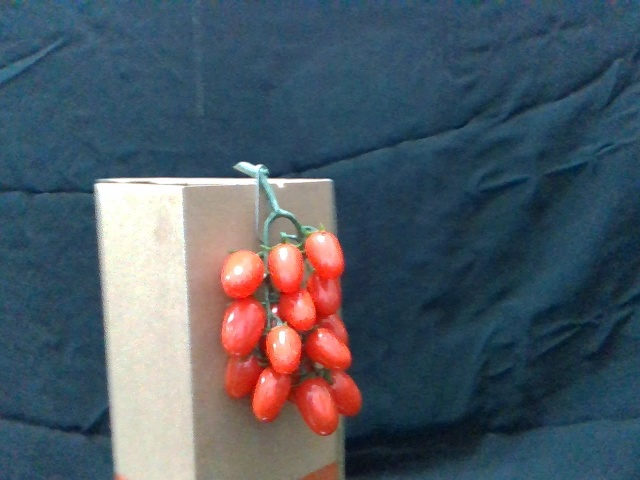tomato: (218, 297, 266, 354), (297, 376, 341, 436), (221, 250, 265, 301), (305, 227, 347, 279), (253, 367, 292, 422), (307, 327, 354, 372), (266, 325, 304, 380), (326, 368, 365, 420), (269, 243, 305, 293), (280, 288, 317, 335), (225, 354, 262, 398), (309, 275, 340, 318)
